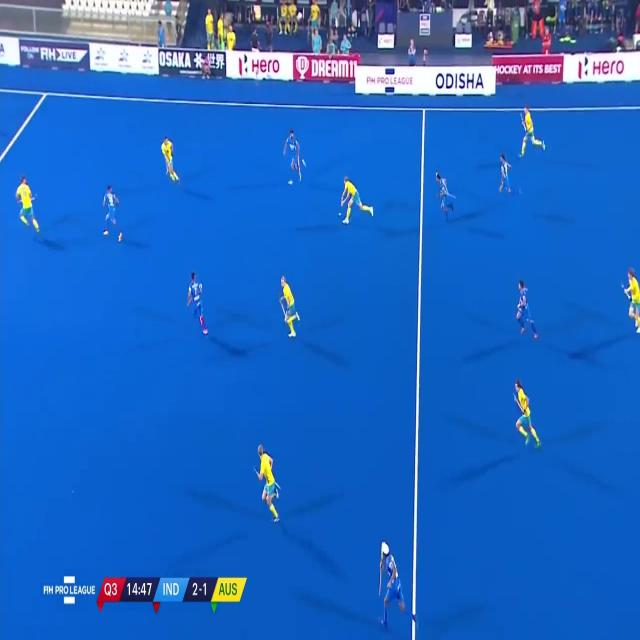ball: (337, 210, 342, 217)
